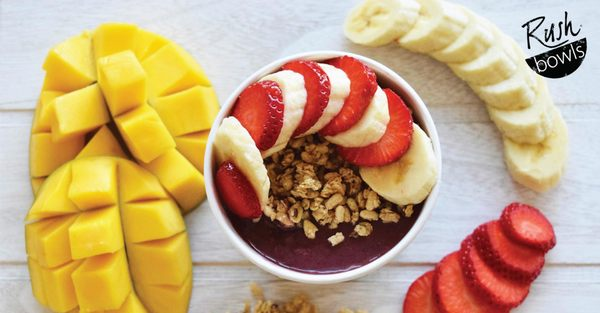sushi: (204, 51, 441, 284)
